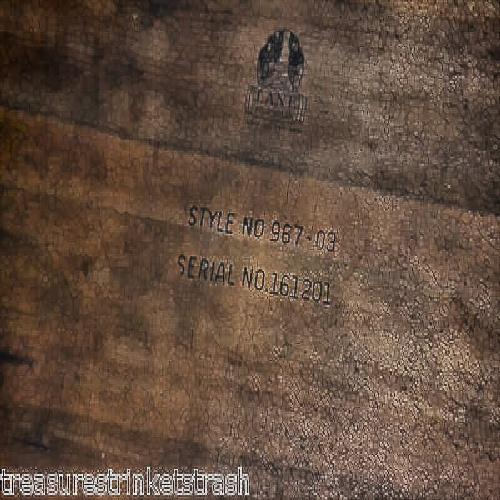table: (51, 46, 458, 463)
